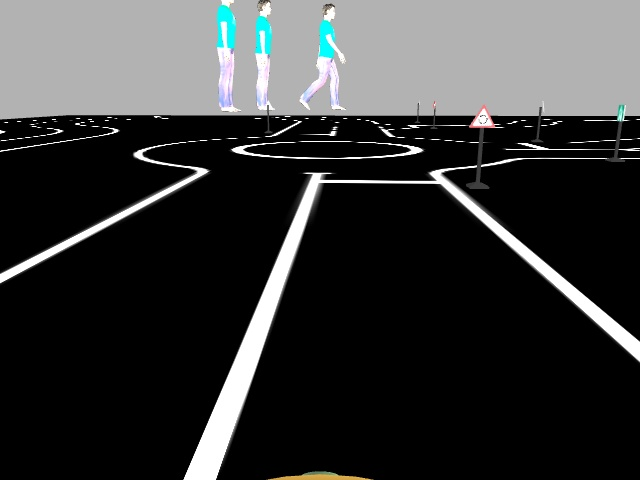Roundabout: (466, 103, 496, 130)
